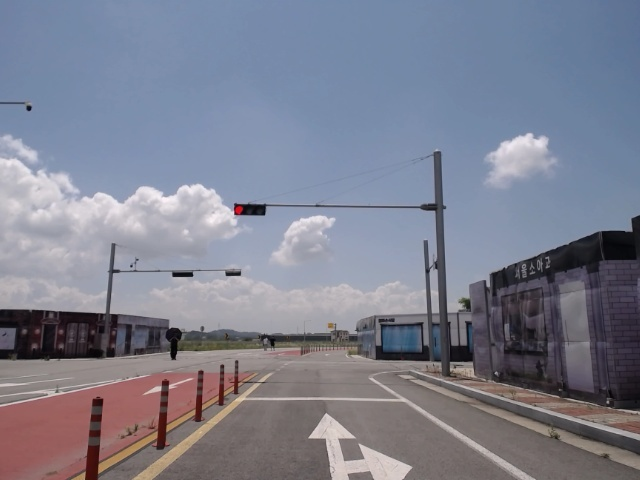red_3: (234, 201, 267, 217)
